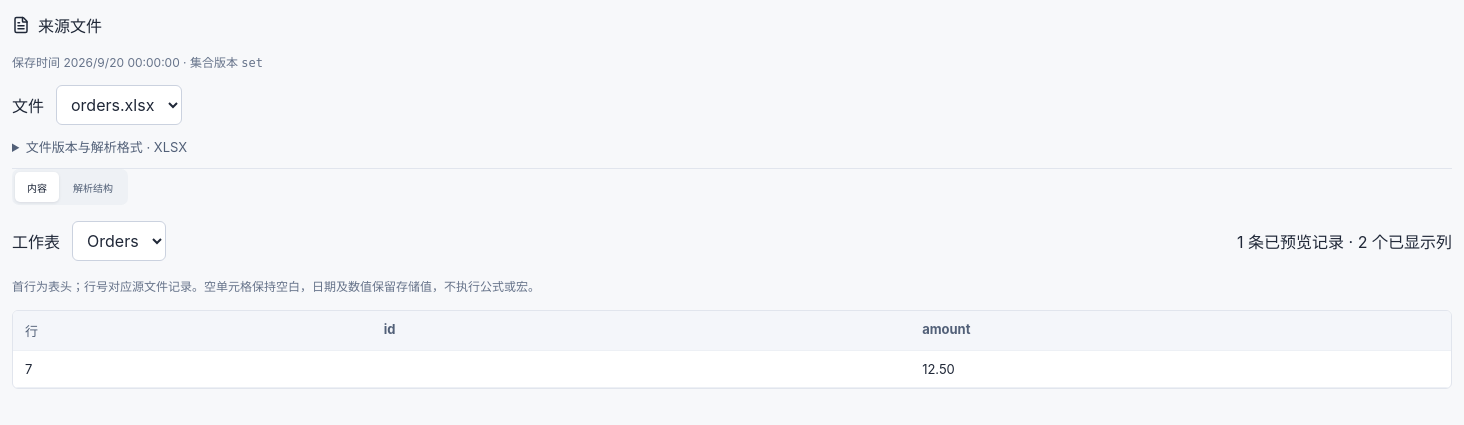
Test: spreadsheet previews switch sheets without losing sparse empty cells
This screenshot has width=1464, height=425.
Check: the cell "12.50" is shown, box x1=910 y1=350 x2=1451 y2=387
Check: the cell "7" is shown, box x1=13 y1=350 x2=372 y2=387
Select "Empty" in the dropdown labelled "工作表". click: (119, 241)
box: x1=72 y1=221 x2=166 y2=261
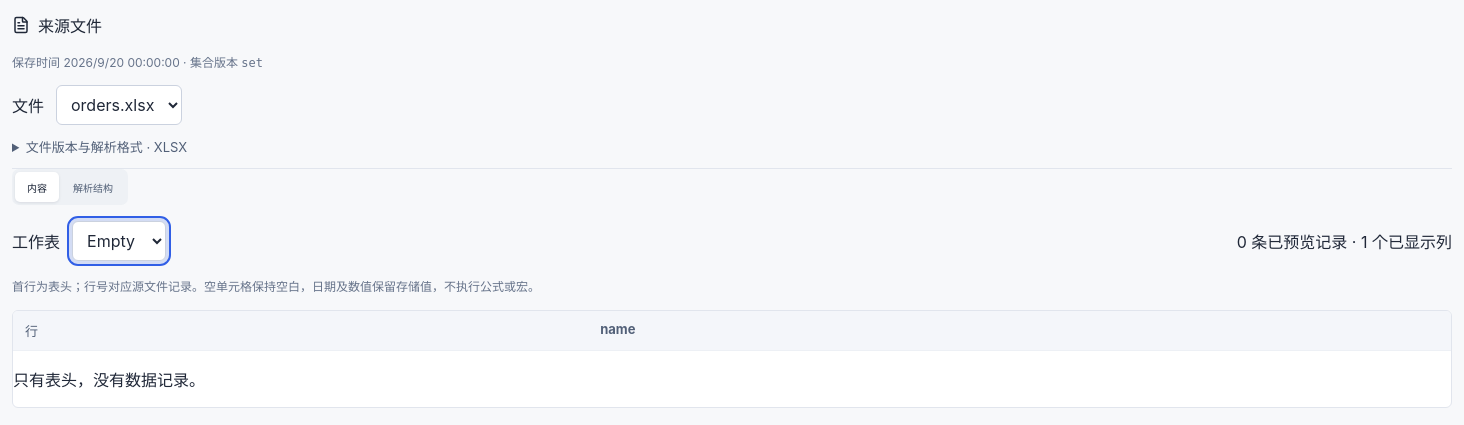
Check: the text "只有表头，没有数据记录。" is shown, box x1=13 y1=370 x2=205 y2=390
Check: the cell "12.50" is gone
